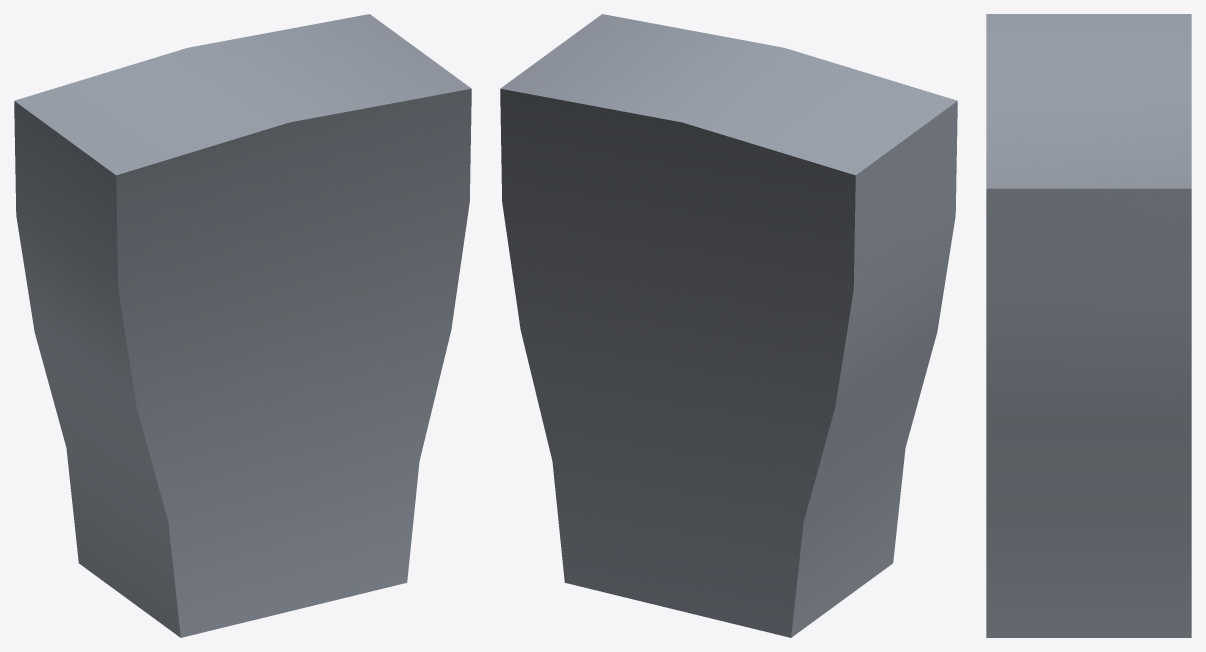
The model's file is Wall_Segement8.fbx.
The picture shows the model from 3 angles, left to right: view 1: azimuth 30°, elevation 25°; view 2: azimuth 150°, elevation 25°; view 3: azimuth 270°, elevation 25°; orthographic projection.
Parts seen in each view (by area): view 1: Wall_Segement8; view 2: Wall_Segement8; view 3: Wall_Segement8.
Boxes of the visible parts, x1=… form: Wall_Segement8: x1=14, y1=14, x2=471, y2=637; Wall_Segement8: x1=500, y1=14, x2=957, y2=637; Wall_Segement8: x1=986, y1=14, x2=1191, y2=637.
Size of the model in its own units: 0.5111 by 0.6716 by 0.254.
Materials: 1 (1 with a texture image).
